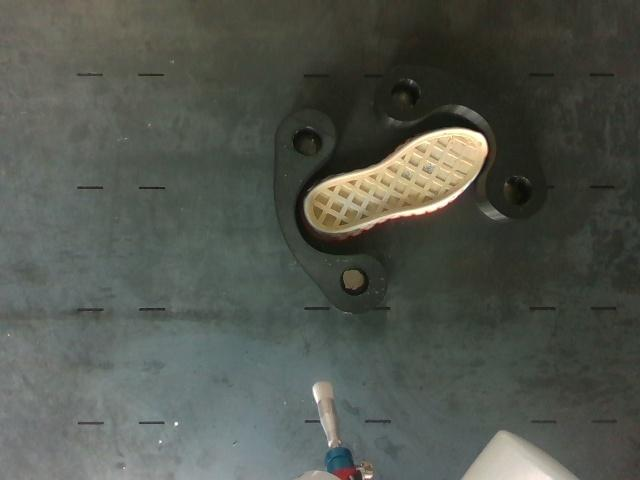shoes: (305, 130, 486, 232)
